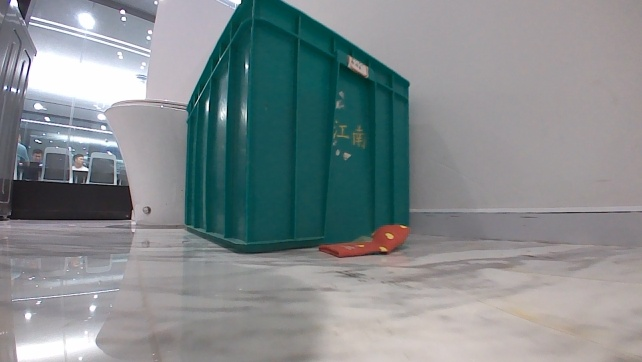socks: (315, 220, 413, 260)
toilet: (96, 95, 187, 228)
